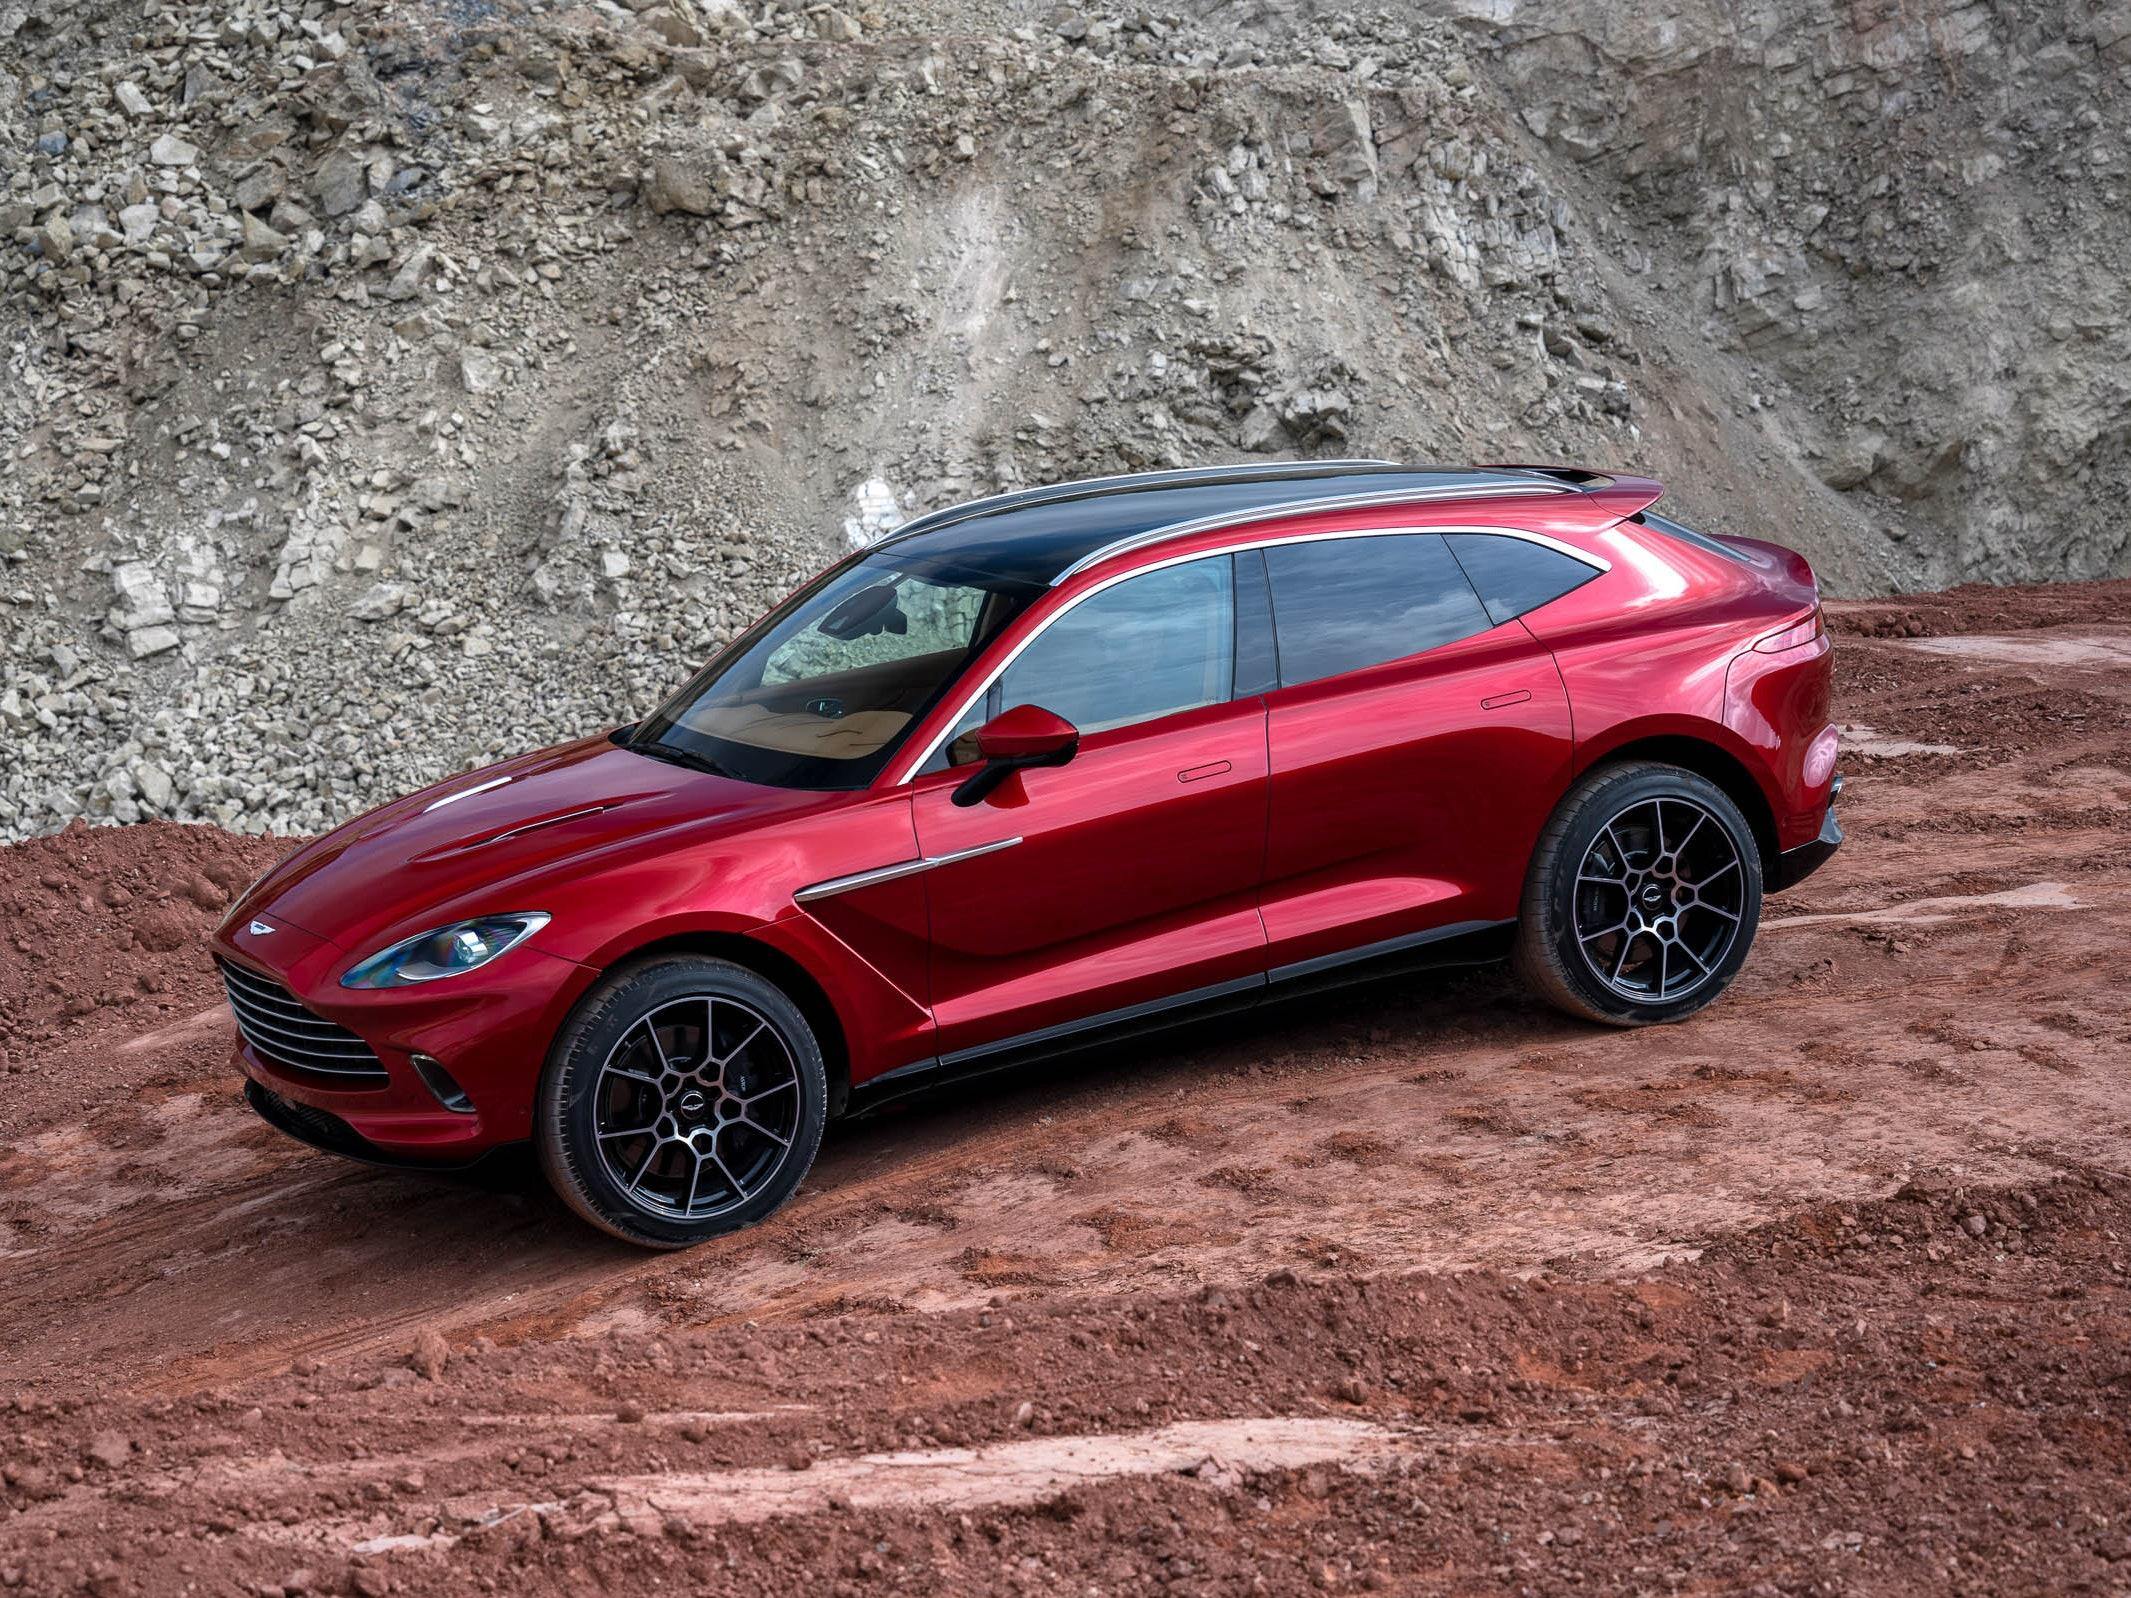car: (173, 440, 1868, 1287)
